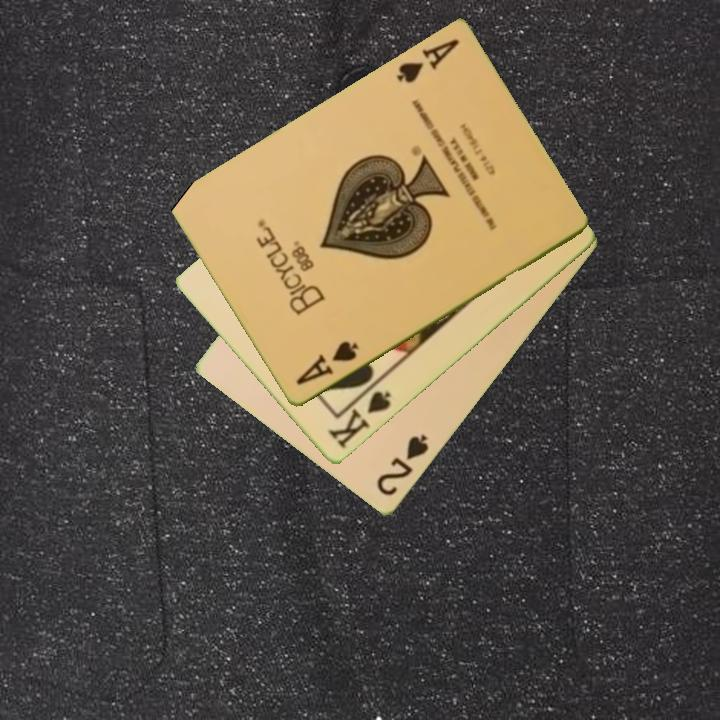2s: (373, 431, 432, 500)
As: (392, 35, 462, 87), (292, 338, 361, 389)
Ks: (324, 379, 394, 453)
